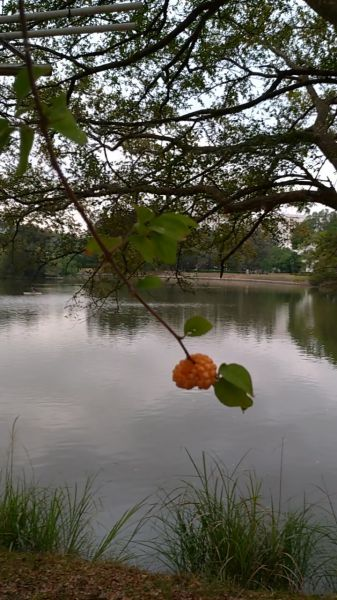eggs: (170, 345, 222, 396)
